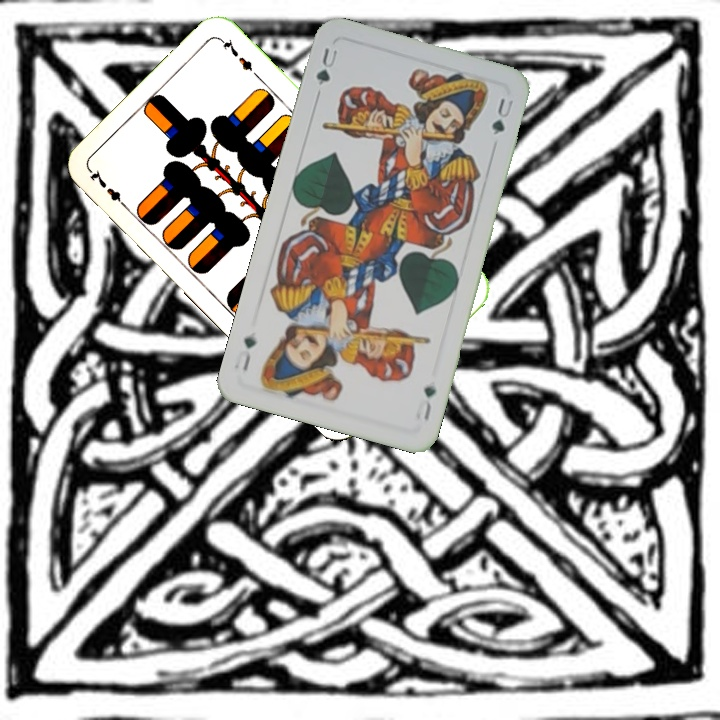E7: (86, 166, 132, 213)
GU: (311, 43, 340, 88), (419, 381, 439, 423)
